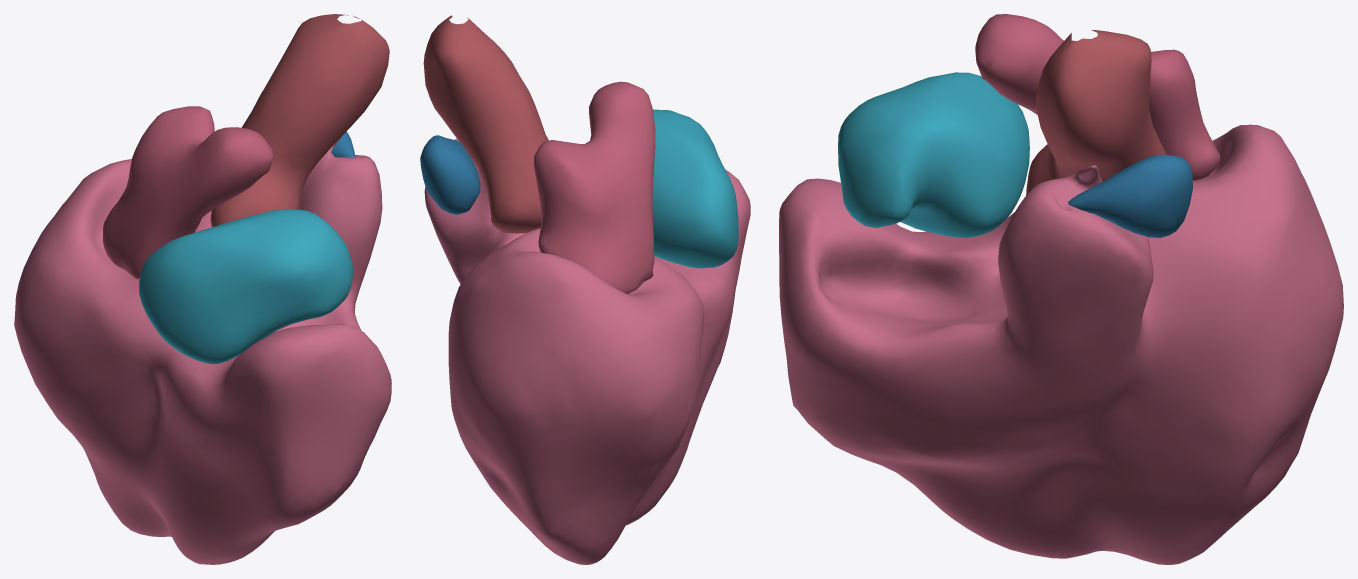
The model's file is frame_10.glb.
3 views of the same model, side by side, from view 1: azimuth 30°, elevation 25°; view 2: azimuth 150°, elevation 25°; view 3: azimuth 270°, elevation 25° (orthographic). The views are drawn at different scales.
Parts seen in each view (by area): view 1: Renderer Node; view 2: Renderer Node; view 3: Renderer Node.
Boxes of the visible parts, bbox=[...] form: Renderer Node: bbox=[14, 14, 391, 564]; Renderer Node: bbox=[420, 15, 750, 564]; Renderer Node: bbox=[779, 14, 1343, 564].
Bounding box in the file's own units: 103 × 158 × 129.
